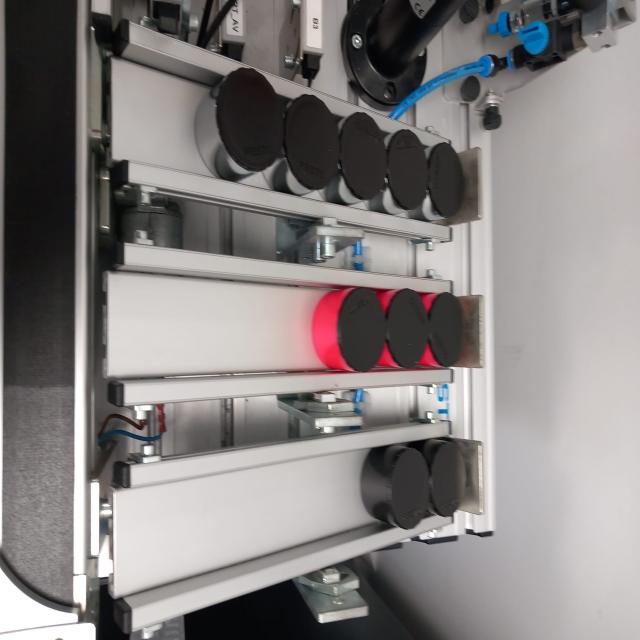Workpiece: (194, 61, 276, 183), (277, 91, 339, 202), (312, 280, 386, 373), (366, 434, 429, 537), (342, 96, 388, 205), (429, 430, 474, 522), (425, 130, 466, 227), (390, 283, 434, 372), (387, 125, 424, 222), (428, 290, 469, 368)
